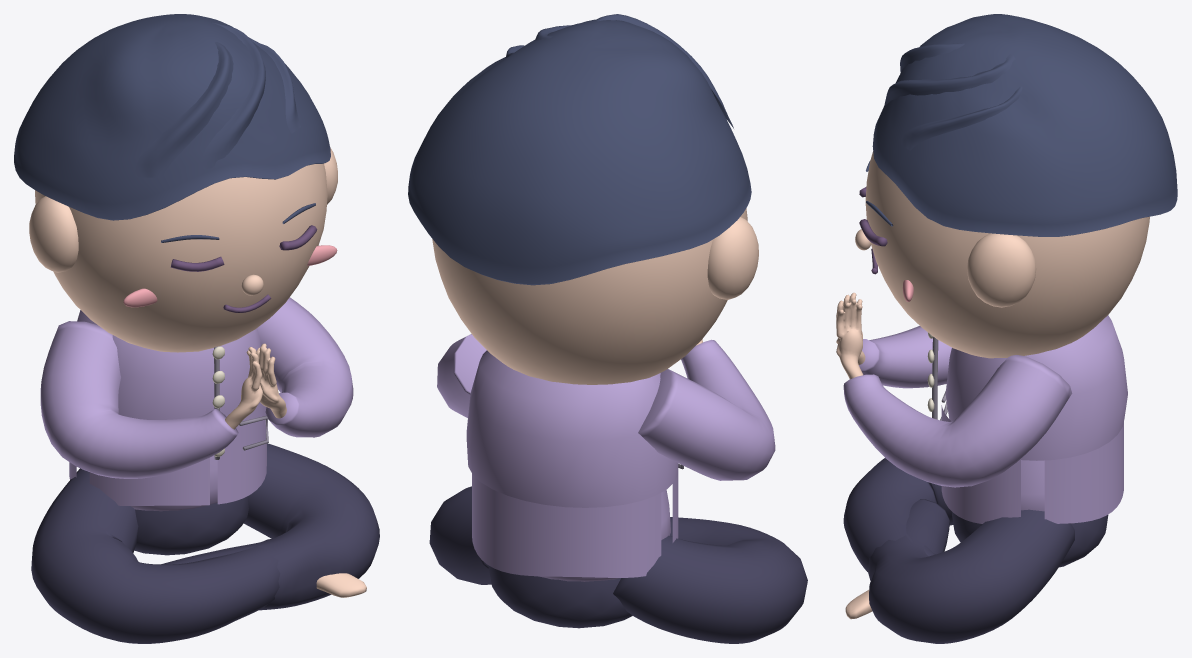
The model's file is meditator_male_cross_prayer_sidepart73_p07b.glb.
3 renders of one model, left to right at view 1: azimuth 30°, elevation 25°; view 2: azimuth 150°, elevation 25°; view 3: azimuth 270°, elevation 25°, orthographic. The views are drawn at different scales.
Parts seen in each view (by area): view 1: hair_male_sidepart73_p07b_object, ao_ba_ba_pants_SeatRoot_object, ao_ba_ba_top_UpperBodyBreath_object, skin_rose_cream_UpperBodyBreath_object, eyes_mauve_UpperBodyBreath_object, skin_rose_cream_SeatRoot_ankle_instep_toes_p05e_object, skin_blush_UpperBodyBreath_object; view 2: hair_male_sidepart73_p07b_object, ao_ba_ba_top_UpperBodyBreath_object, skin_rose_cream_UpperBodyBreath_object, ao_ba_ba_pants_SeatRoot_object; view 3: hair_male_sidepart73_p07b_object, ao_ba_ba_top_UpperBodyBreath_object, skin_rose_cream_UpperBodyBreath_object, ao_ba_ba_pants_SeatRoot_object, ao_ba_ba_placket_UpperBodyBreath_object, eyes_mauve_UpperBodyBreath_object, skin_rose_cream_SeatRoot_ankle_instep_toes_p05e_object.
Boxes of the visible parts, x1=… form: hair_male_sidepart73_p07b_object: x1=14, y1=14, x2=330, y2=242; ao_ba_ba_pants_SeatRoot_object: x1=31, y1=443, x2=379, y2=643; ao_ba_ba_top_UpperBodyBreath_object: x1=40, y1=297, x2=353, y2=511; skin_rose_cream_UpperBodyBreath_object: x1=29, y1=147, x2=337, y2=429; eyes_mauve_UpperBodyBreath_object: x1=170, y1=225, x2=317, y2=312; skin_rose_cream_SeatRoot_ankle_instep_toes_p05e_object: x1=316, y1=573, x2=366, y2=597; skin_blush_UpperBodyBreath_object: x1=123, y1=245, x2=337, y2=307; hair_male_sidepart73_p07b_object: x1=408, y1=14, x2=751, y2=285; ao_ba_ba_top_UpperBodyBreath_object: x1=437, y1=334, x2=775, y2=581; skin_rose_cream_UpperBodyBreath_object: x1=432, y1=208, x2=758, y2=384; ao_ba_ba_pants_SeatRoot_object: x1=429, y1=486, x2=807, y2=643; hair_male_sidepart73_p07b_object: x1=866, y1=14, x2=1177, y2=236; ao_ba_ba_top_UpperBodyBreath_object: x1=843, y1=315, x2=1127, y2=523; skin_rose_cream_UpperBodyBreath_object: x1=836, y1=151, x2=1149, y2=379; ao_ba_ba_pants_SeatRoot_object: x1=843, y1=458, x2=1108, y2=643; ao_ba_ba_placket_UpperBodyBreath_object: x1=932, y1=337, x2=947, y2=420; eyes_mauve_UpperBodyBreath_object: x1=859, y1=187, x2=887, y2=274; skin_rose_cream_SeatRoot_ankle_instep_toes_p05e_object: x1=845, y1=590, x2=872, y2=619.
Size of the model in its own units: 0.7292 by 1.19 by 0.67.
